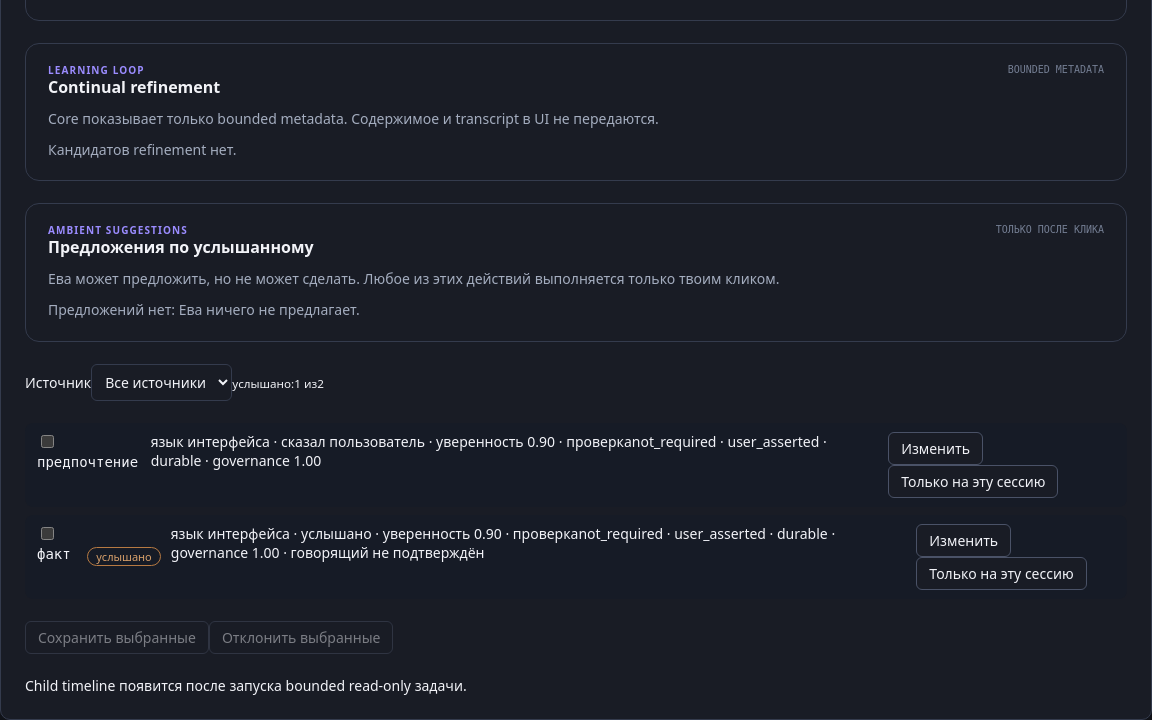
Test: operations panel › filters the queue by source without confirming anything hidden
(page scrolled)
Click the checkbox labelled "факт" at (48, 533), box [41,527,54,540]
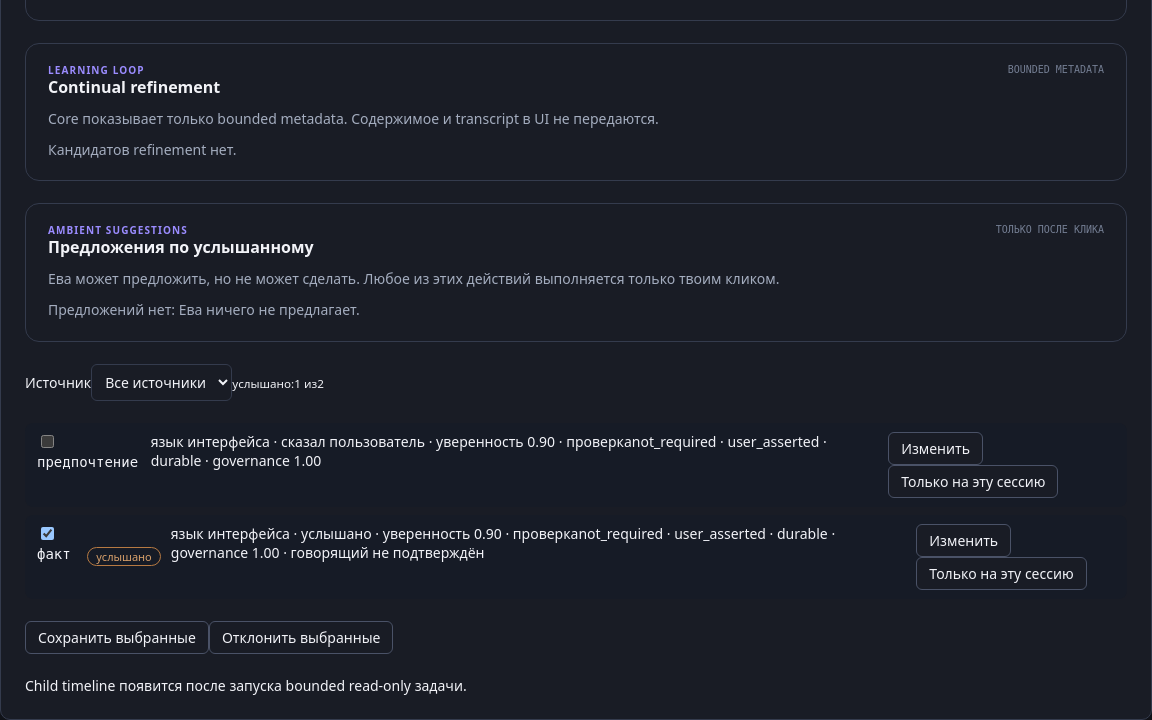
Select "Из диалога" in the dropdown labelled "Источник" at (162, 382), box [91,364,232,401]
(page scrolled)
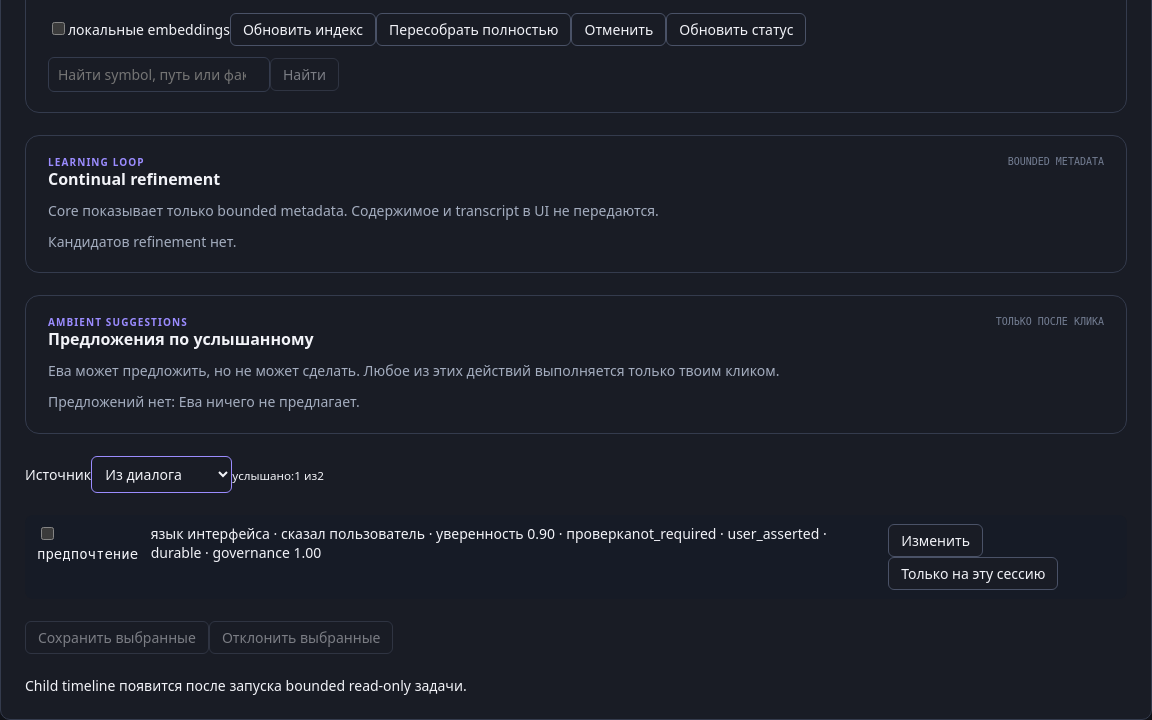
Check: the checkbox labelled "предпочтение" is shown, box [41,527,54,540]
Check: the button "Сохранить выбранные" is disabled, box [25,621,209,654]
Select "Услышано" in the dropdown labelled "Источник" at (162, 474), box [91,456,232,493]
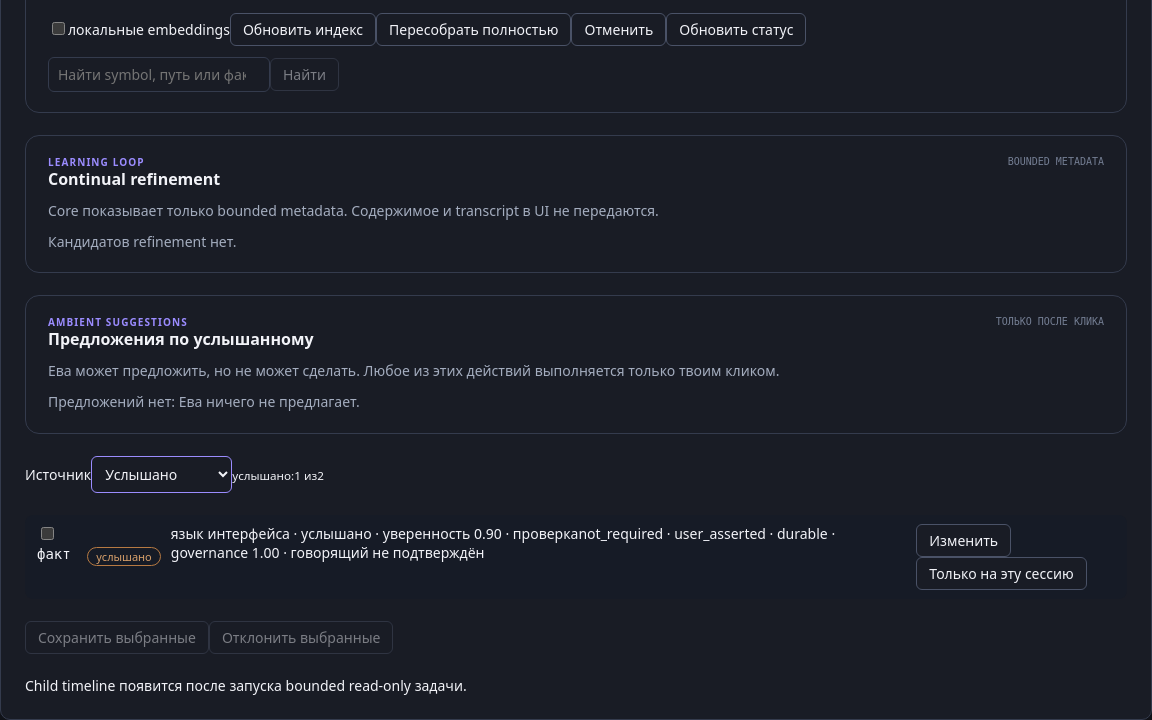
Check: the checkbox labelled "факт" is shown, box [41,527,54,540]
Check: the text "предпочтение" is gone
